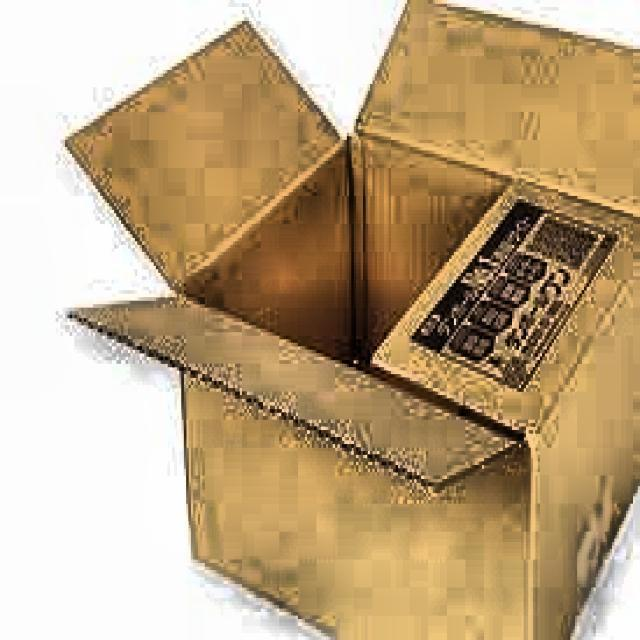cardboard: (60, 0, 638, 637)
